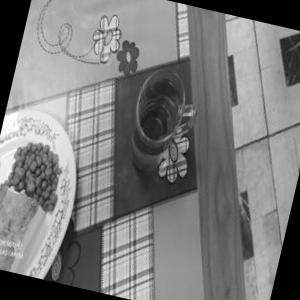casserole: (0, 135, 77, 279)
tea: (110, 55, 219, 183)
